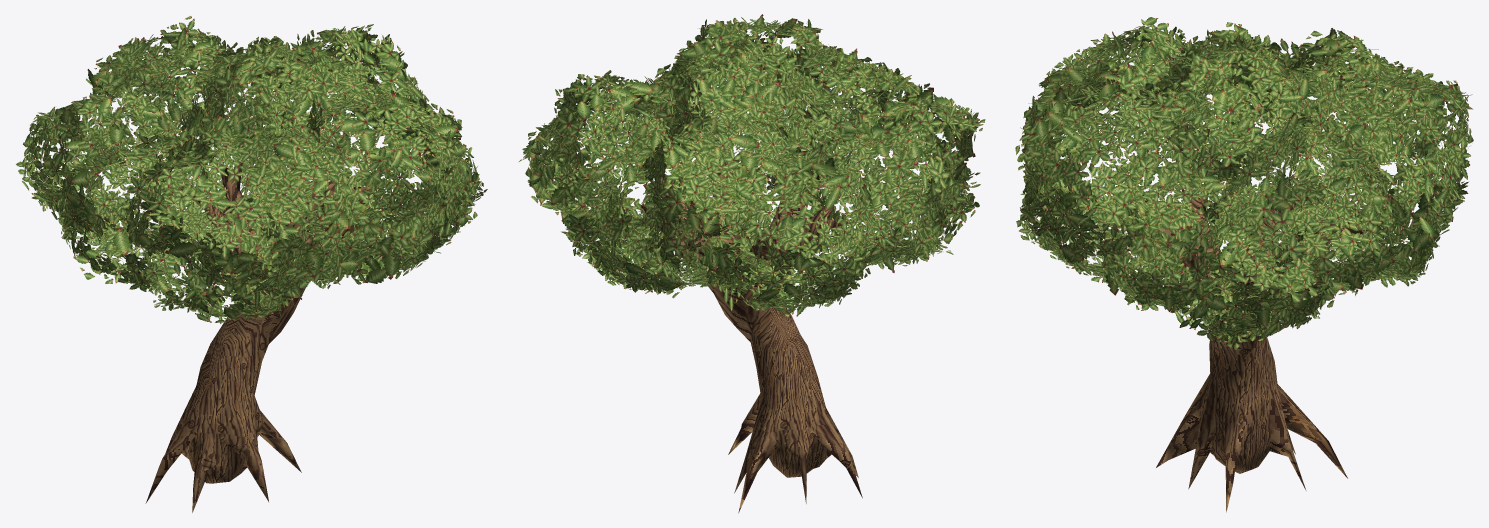
The model's file is macieira_anterior_LOD_D.glb.
3 views of the same model, side by side, from view 1: azimuth 30°, elevation 25°; view 2: azimuth 150°, elevation 25°; view 3: azimuth 270°, elevation 25° (orthographic). The views are drawn at different scales.
Parts seen in each view (by area): view 1: macieira_inclinada; view 2: macieira_inclinada; view 3: macieira_inclinada.
Boxes of the visible parts, <box> form: macieira_inclinada: <box>16,16,487,512</box>; macieira_inclinada: <box>519,14,985,513</box>; macieira_inclinada: <box>1015,17,1473,512</box>.
Bounding box in the file's own units: 5.9 × 6.14 × 5.54.
2 materials, 2 textured.
